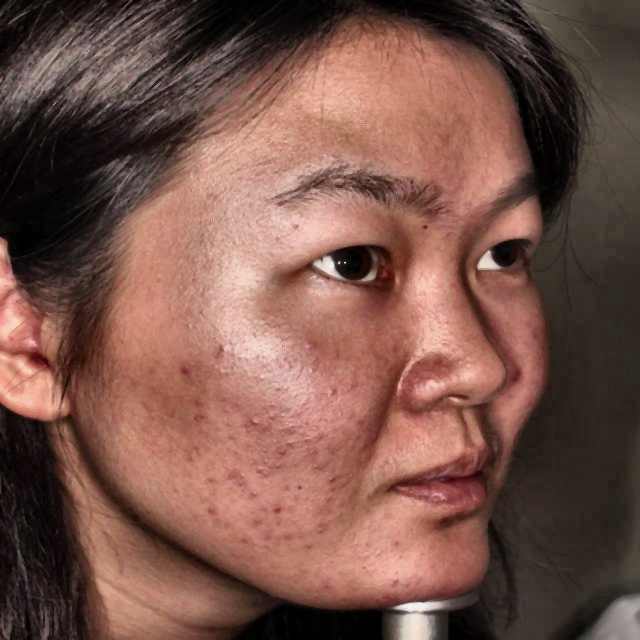comedone: (171, 363, 201, 381)
